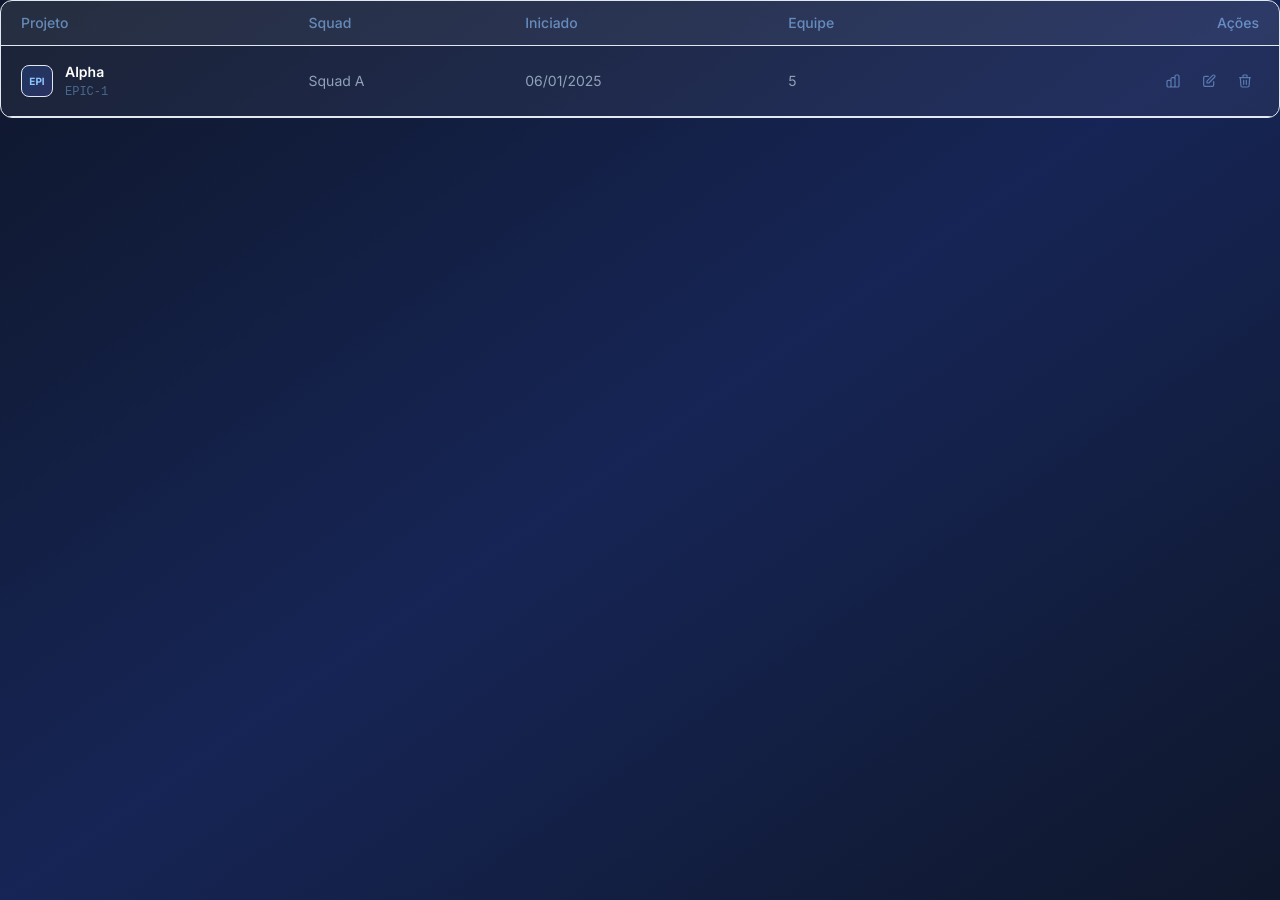
it: ProjectListClient — with projects › shows confirmation prompt when delete button is clicked
The width and height of the screenshot is (1280, 900).
Click the button with id "delete-project-1".
click(1245, 81)  # box [1231,67,1259,95]
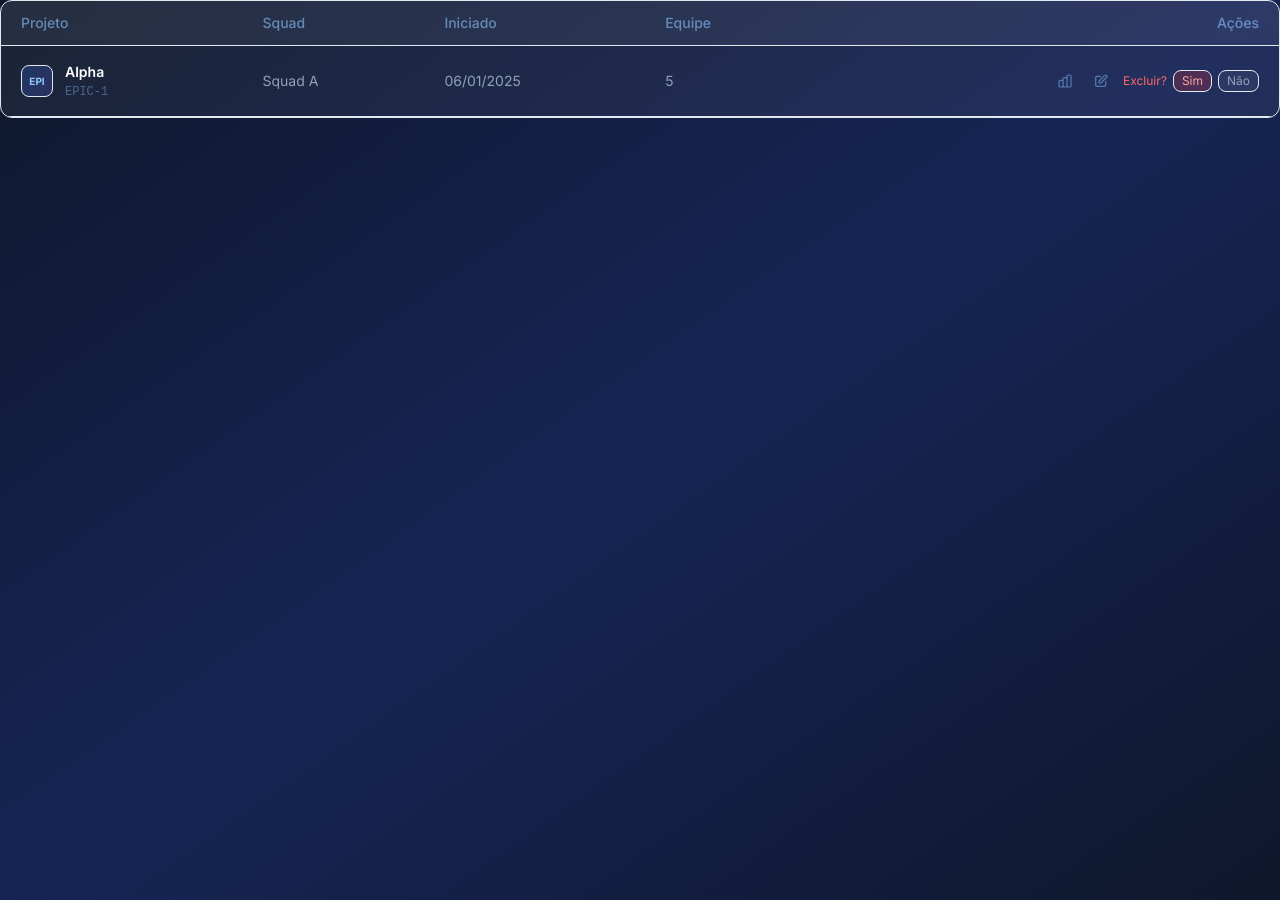
Now the text "Excluir?" is shown, box [1123,73,1167,89]
Now the button with id "confirm-delete-1" is shown, box [1173,70,1212,92]
